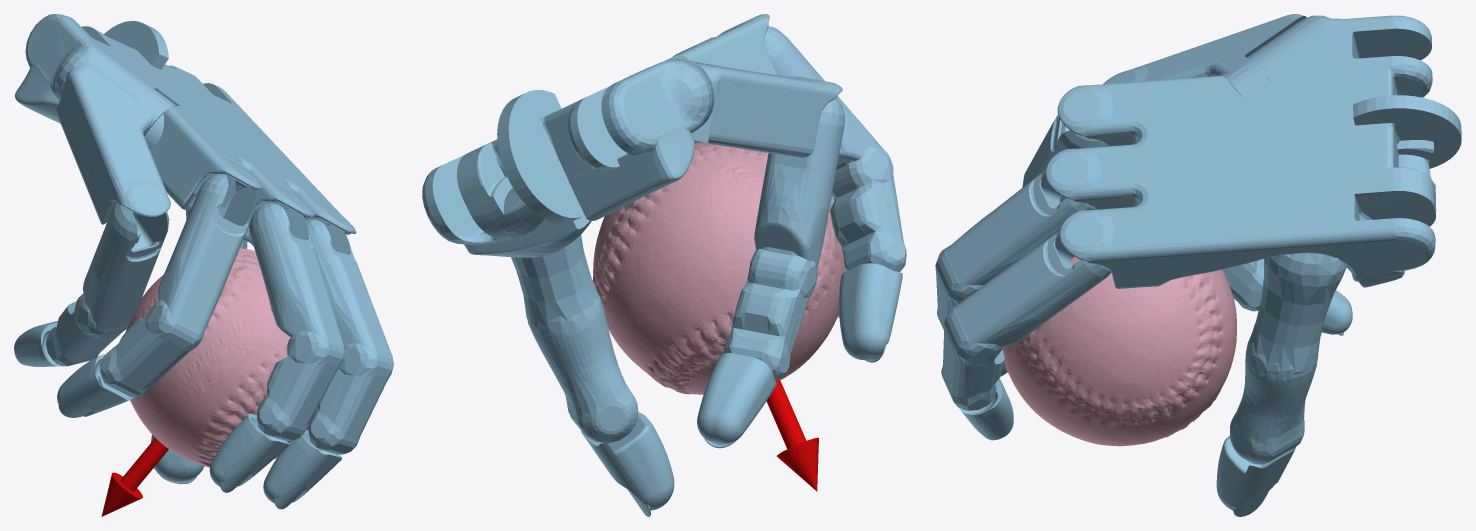
The picture shows the model from 3 angles, left to right: view 1: azimuth 30°, elevation 25°; view 2: azimuth 150°, elevation 25°; view 3: azimuth 270°, elevation 25°; orthographic projection. The views are drawn at different scales.
Parts seen in each view (by area): view 1: world, baseball.stl; view 2: world, baseball.stl; view 3: world, baseball.stl.
Boxes of the visible parts, x1=… form: world: x1=14, y1=14, x2=393, y2=516; baseball.stl: x1=125, y1=248, x2=317, y2=467; world: x1=422, y1=14, x2=906, y2=516; baseball.stl: x1=592, y1=142, x2=845, y2=394; world: x1=935, y1=14, x2=1461, y2=516; baseball.stl: x1=1002, y1=256, x2=1236, y2=446.
Size of the model in its own units: 0.1075 by 0.1583 by 0.1596.
